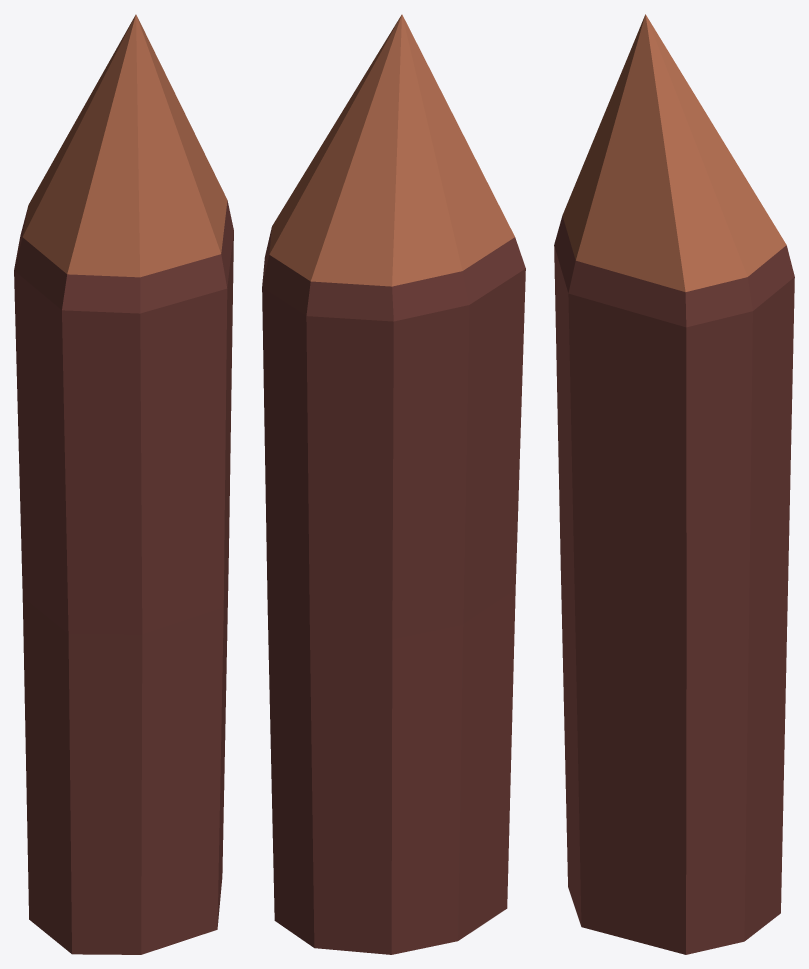
The model's file is Wooden Pole Sharp 03.fbx.
The picture shows the model from 3 angles, left to right: view 1: azimuth 30°, elevation 25°; view 2: azimuth 150°, elevation 25°; view 3: azimuth 270°, elevation 25°; orthographic projection.
Parts seen in each view (by area): view 1: Wooden Pole Sharp 03; view 2: Wooden Pole Sharp 03; view 3: Wooden Pole Sharp 03.
Part boxes in pixels (x1,y1,x2,y2): Wooden Pole Sharp 03: (14, 14, 233, 954); Wooden Pole Sharp 03: (262, 14, 525, 954); Wooden Pole Sharp 03: (554, 14, 794, 954).
Size of the model in its own units: 30.54 by 121 by 29.58.
